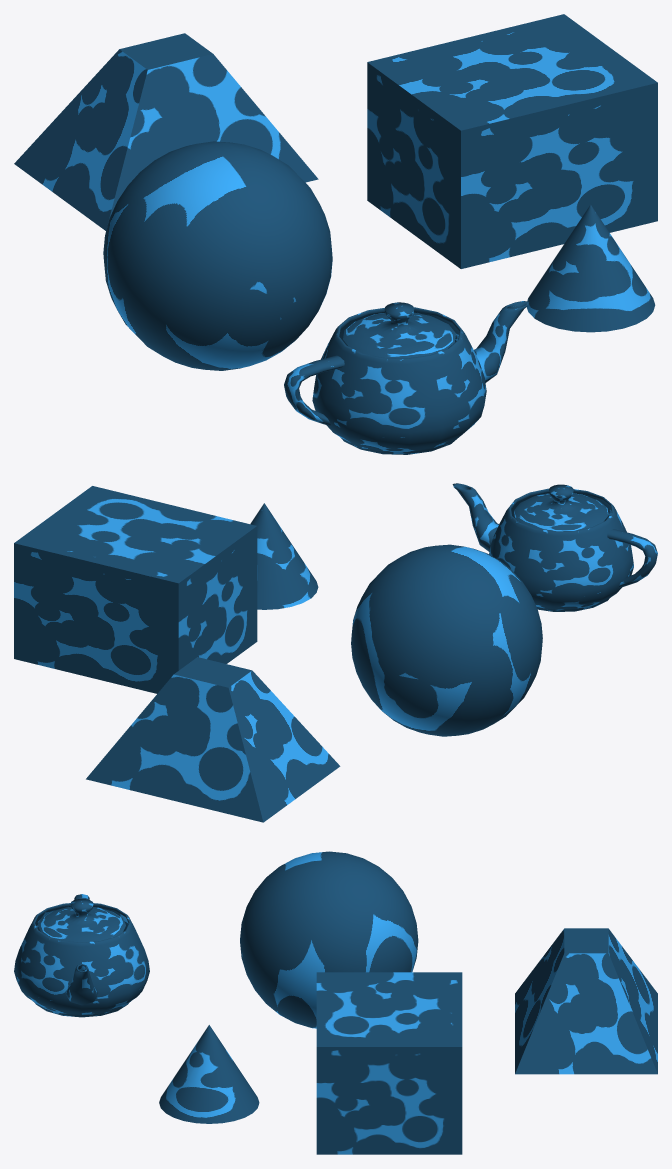
File: envObjects.DAE
The picture shows the model from 3 angles, top to bottom: view 1: azimuth 30°, elevation 25°; view 2: azimuth 150°, elevation 25°; view 3: azimuth 270°, elevation 25°; orthographic projection. The views are drawn at different scales.
Visible parts, largest first — view 1: Box01, Sphere01, Pyramid01, Teapot01, Cone01; view 2: Box01, Sphere01, Pyramid01, Teapot01, Cone01; view 3: Box01, Sphere01, Pyramid01, Teapot01, Cone01.
Part boxes in pixels (bbox=[...]): Box01: bbox=[367, 14, 657, 268]; Sphere01: bbox=[103, 141, 332, 370]; Pyramid01: bbox=[14, 33, 318, 230]; Teapot01: bbox=[284, 301, 529, 454]; Cone01: bbox=[526, 204, 655, 332]; Box01: bbox=[14, 486, 257, 693]; Sphere01: bbox=[351, 544, 542, 736]; Pyramid01: bbox=[86, 657, 340, 822]; Teapot01: bbox=[452, 483, 657, 611]; Cone01: bbox=[250, 503, 318, 609]; Box01: bbox=[316, 972, 462, 1154]; Sphere01: bbox=[240, 851, 418, 1028]; Pyramid01: bbox=[515, 928, 657, 1074]; Teapot01: bbox=[14, 894, 149, 1017]; Cone01: bbox=[159, 1025, 259, 1123].
Size of the model in its own units: 314 by 424 by 118.
Materials: 1 (1 with a texture image).
